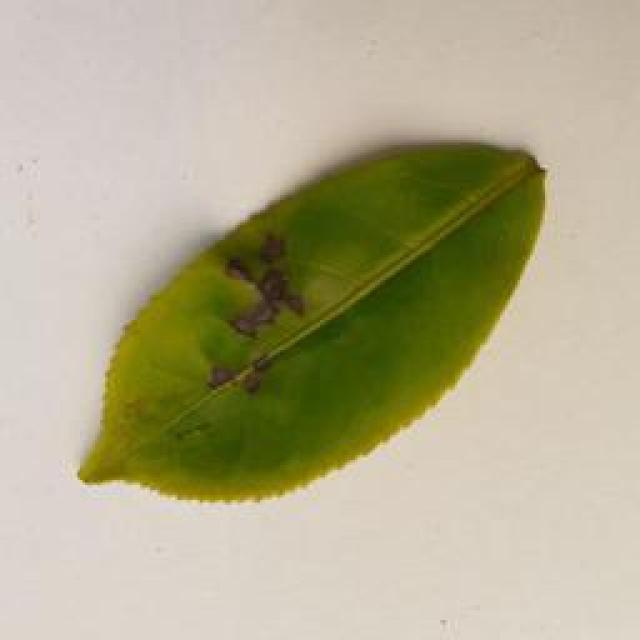Helopeltis: (70, 140, 548, 512)
